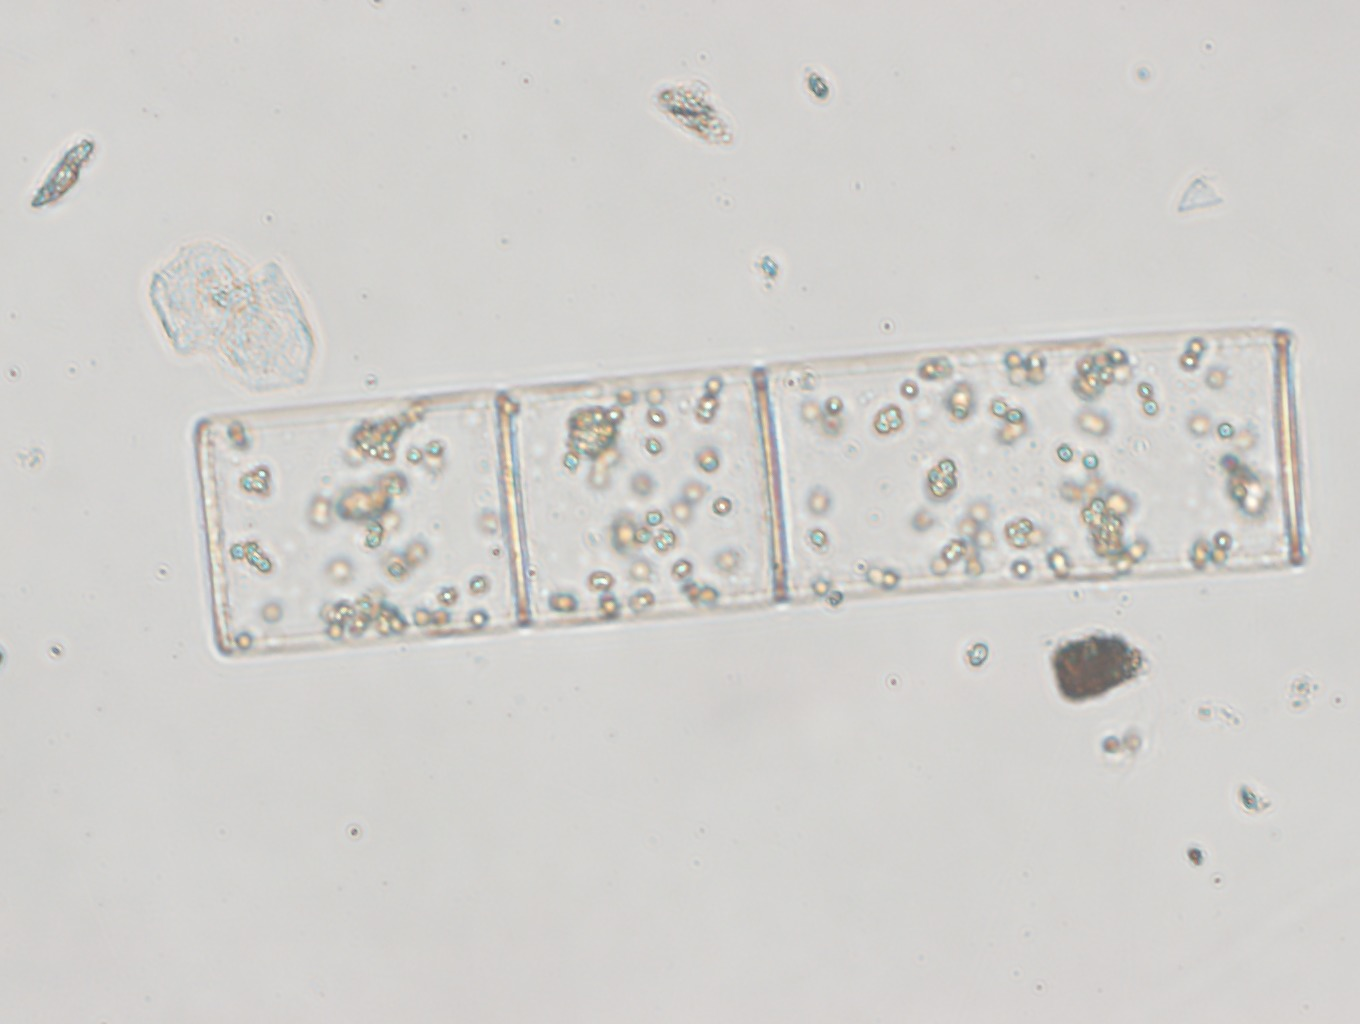guinardia flaccida: (190, 321, 1308, 662)
